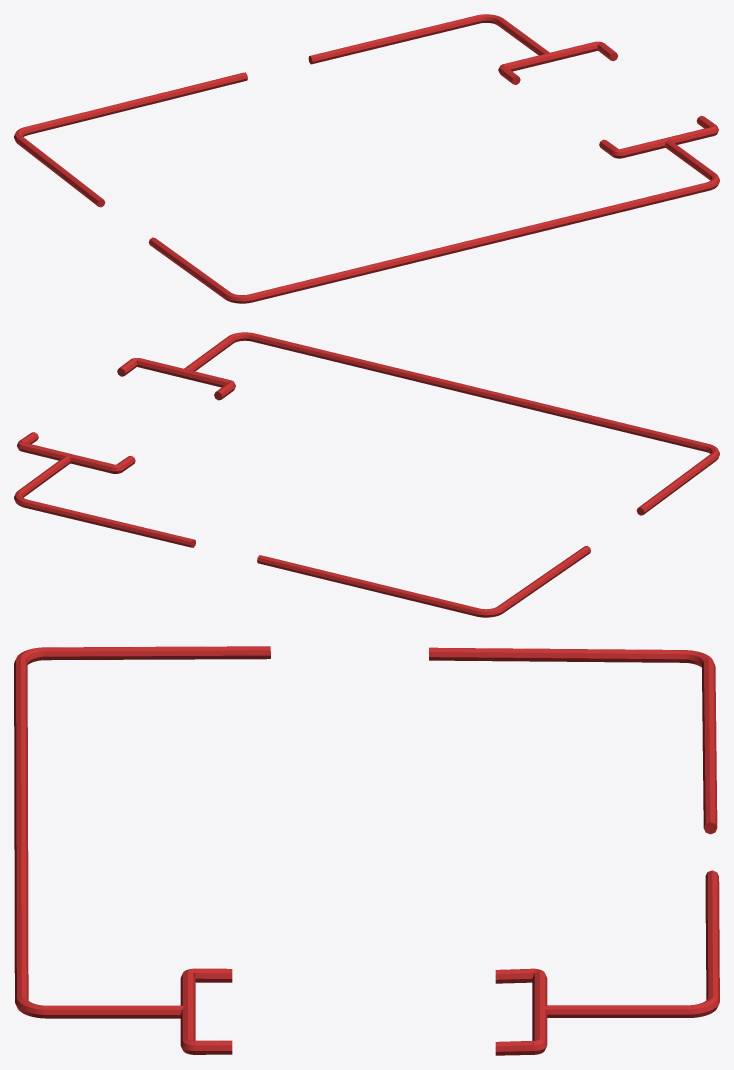
3 renders of one model, top to bottom at view 1: azimuth 30°, elevation 25°; view 2: azimuth 150°, elevation 25°; view 3: azimuth 270°, elevation 25°, orthographic. The views are drawn at different scales.
Visible parts, largest first — view 1: 2; view 2: 2; view 3: 2.
Boxes of the visible parts, bbox=[...] form: 2: bbox=[14, 14, 719, 303]; 2: bbox=[14, 332, 719, 617]; 2: bbox=[14, 646, 719, 1055].
Bounding box in the file's own units: 457 × 7.6 × 340.
